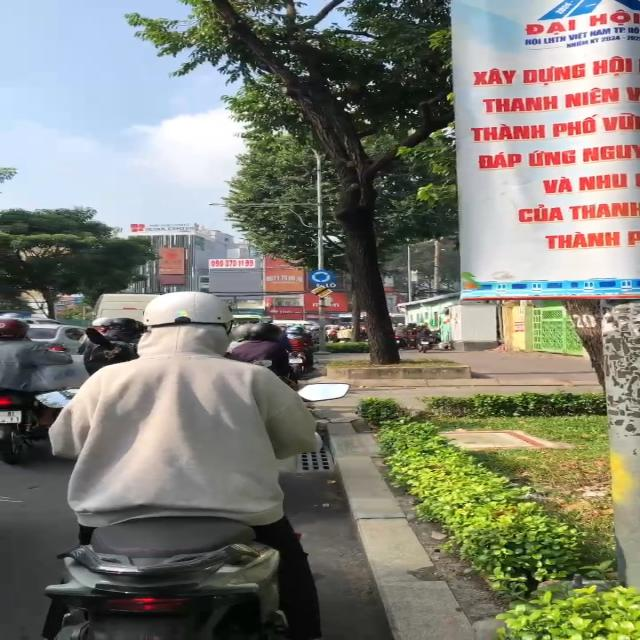Bien bao noi giao nhau chay theo vong xuyen: (307, 268, 336, 284)
